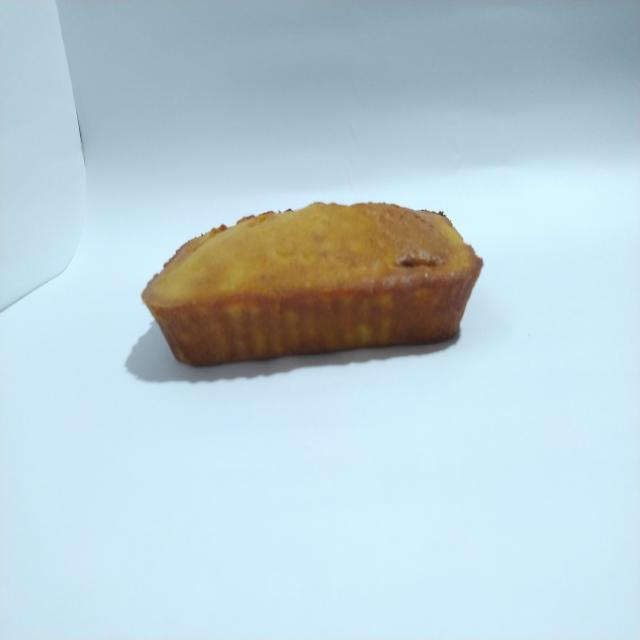Sopa: (131, 181, 488, 384)
